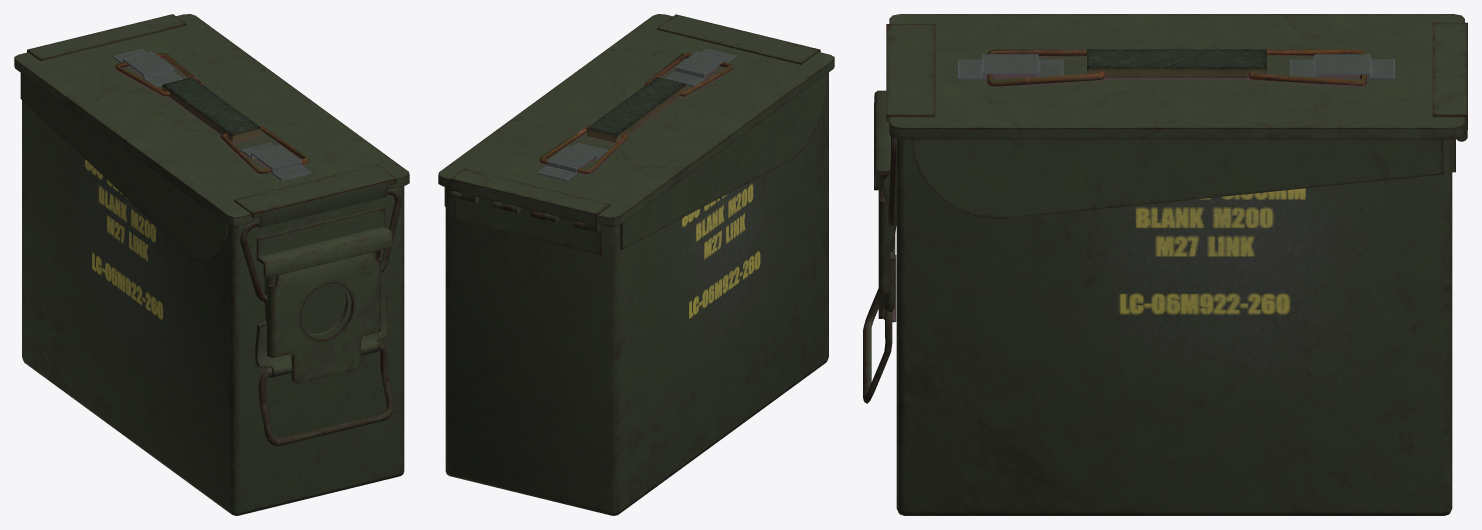
Rendered from Ammo Box.FBX.
3 views of the same model, side by side, from view 1: azimuth 30°, elevation 25°; view 2: azimuth 150°, elevation 25°; view 3: azimuth 270°, elevation 25° (orthographic). The views are drawn at different scales.
Visible parts, largest first — view 1: 1, 2; view 2: 1, 2; view 3: 1, 2.
Part boxes in pixels (x1=…): 1: x1=22, y1=100, x2=404, y2=515; 2: x1=14, y1=14, x2=409, y2=383; 1: x1=445, y1=72, x2=828, y2=515; 2: x1=438, y1=14, x2=834, y2=249; 1: x1=863, y1=90, x2=1467, y2=515; 2: x1=878, y1=14, x2=1467, y2=318.
Bounding box in the file's own units: 0.2418 × 0.4008 × 0.5411.
